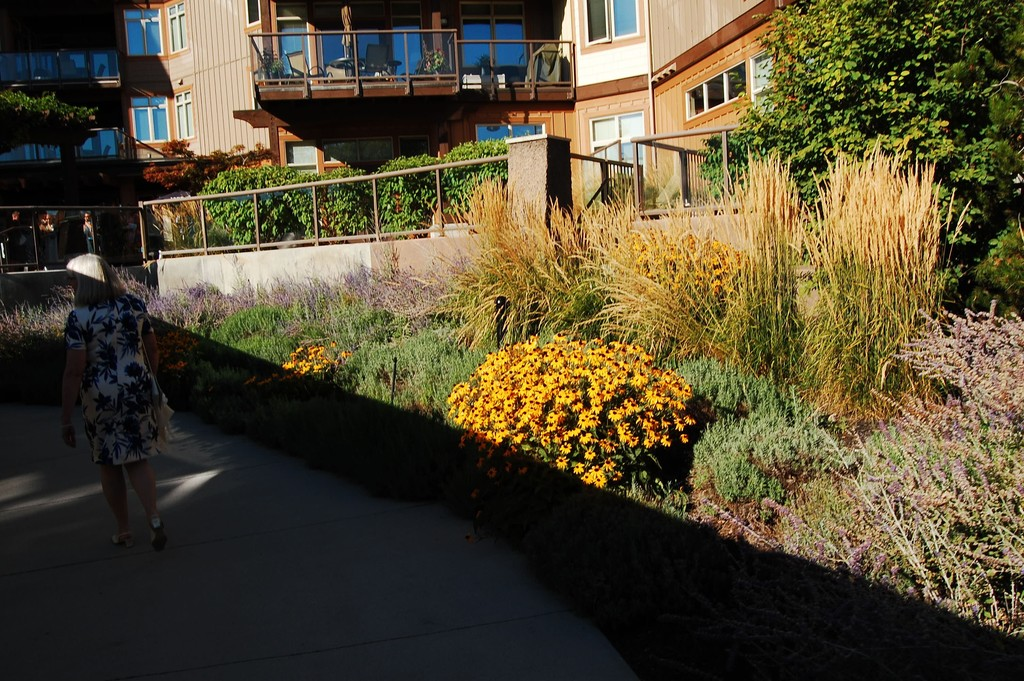Tree: (700, 1, 1023, 260), (145, 143, 510, 247)
